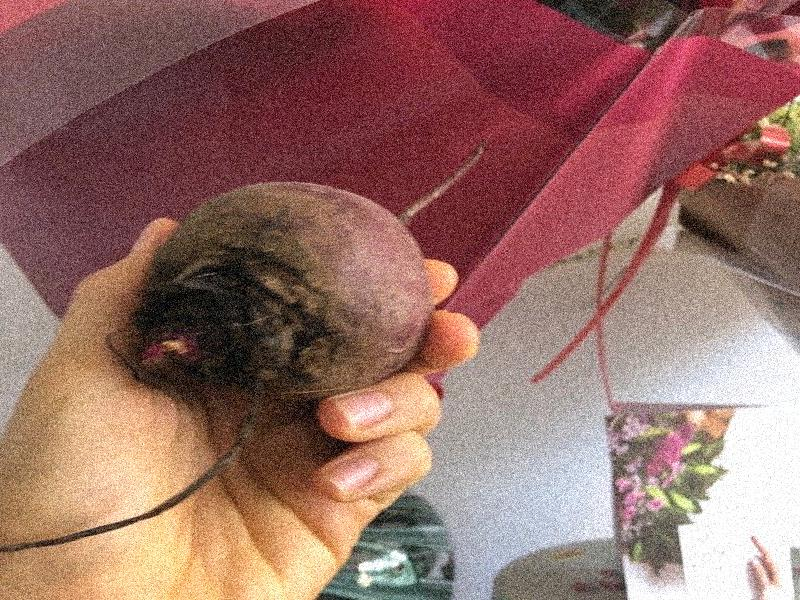Beet: (5, 141, 489, 553)
